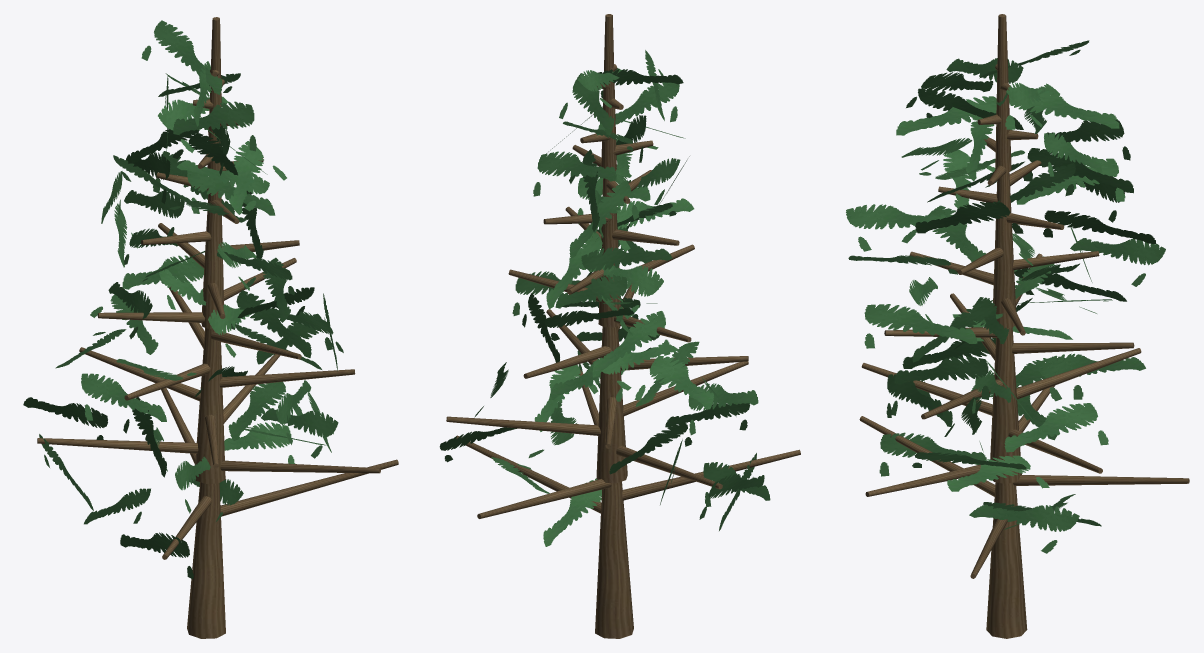
The picture shows the model from 3 angles, left to right: view 1: azimuth 30°, elevation 25°; view 2: azimuth 150°, elevation 25°; view 3: azimuth 270°, elevation 25°; orthographic projection.
Parts seen in each view (by area): view 1: pine-needle, pine-bark; view 2: pine-needle, pine-bark; view 3: pine-needle, pine-bark.
Part boxes in pixels (left/top/right/bottom): pine-needle: left=23, top=20, right=343, bottom=579; pine-bark: left=37, top=17, right=398, bottom=638; pine-needle: left=439, top=50, right=770, bottom=546; pine-bark: left=446, top=14, right=800, bottom=638; pine-needle: left=846, top=40, right=1165, bottom=553; pine-bark: left=859, top=14, right=1189, bottom=638.
Bounding box in the file's own units: 5.5 × 10.01 × 5.28.
2 materials, 2 textured.
